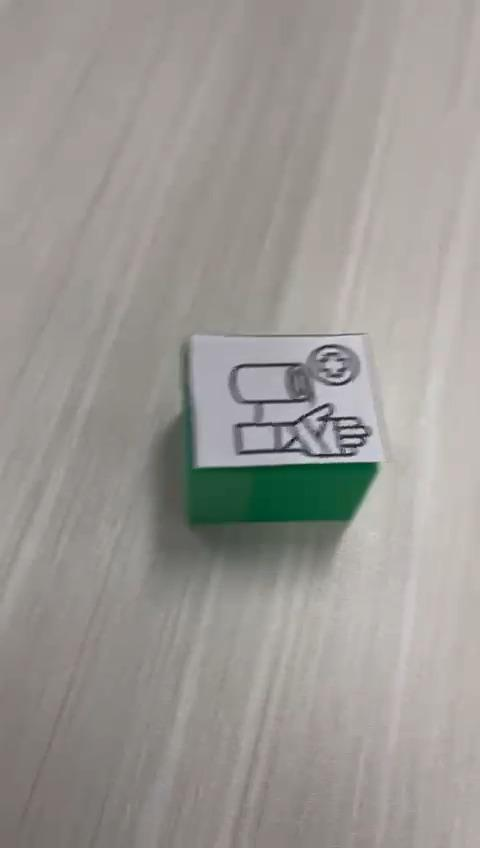Bandages: (183, 330, 386, 526)
